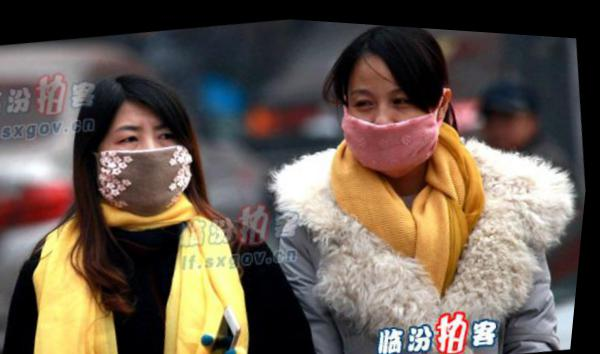OK: (91, 102, 207, 225)
WRONG: (339, 59, 452, 180)
